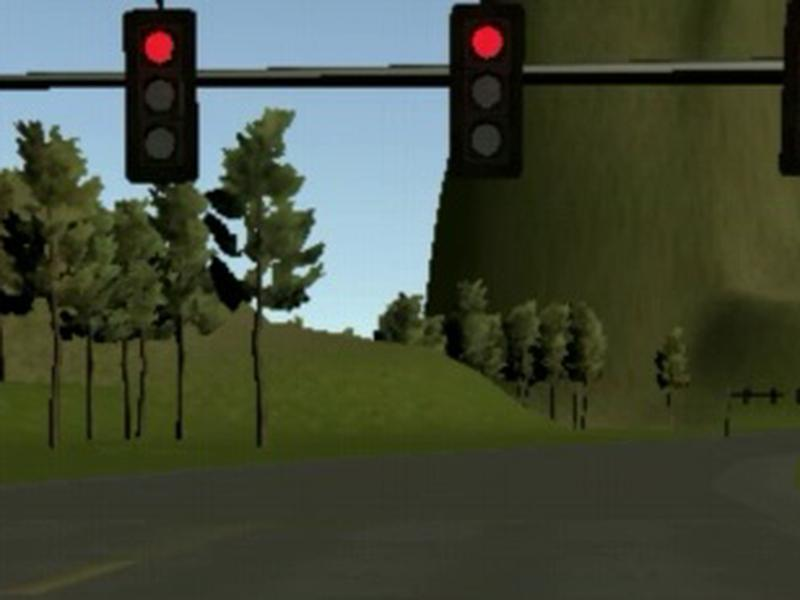Red: (125, 9, 199, 182), (453, 6, 521, 174)
